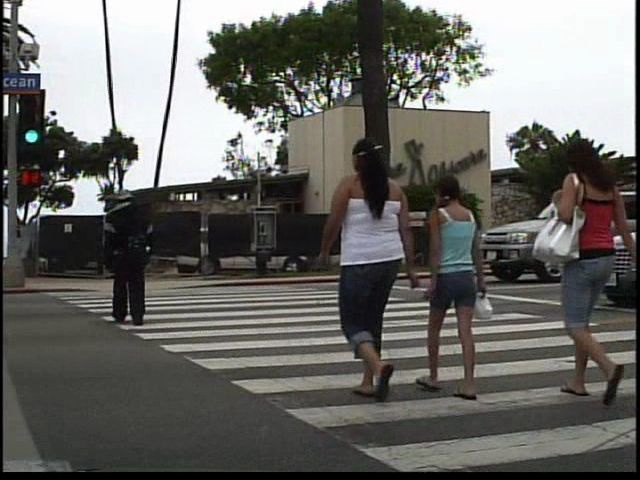person: (317, 125, 429, 400), (424, 170, 499, 408), (96, 182, 162, 334)
